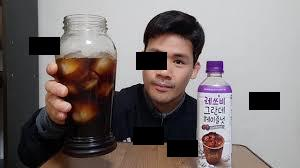letsbe_grande_hazelnut: (196, 59, 234, 167)
